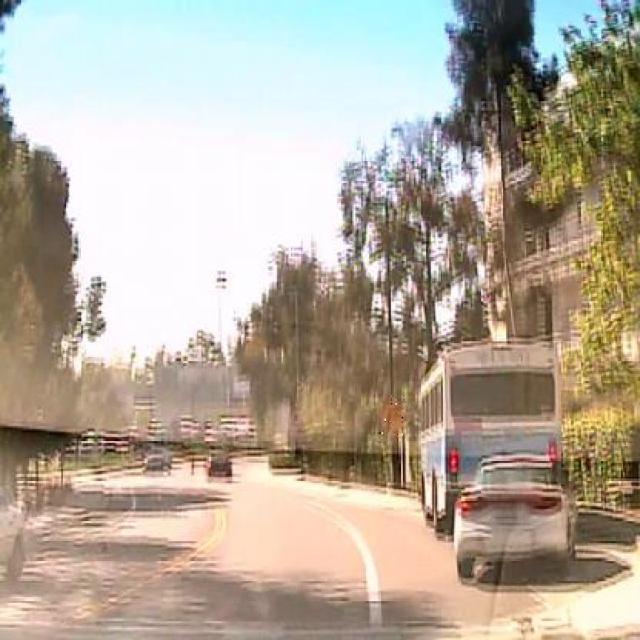turnRight: (378, 394, 406, 436)
